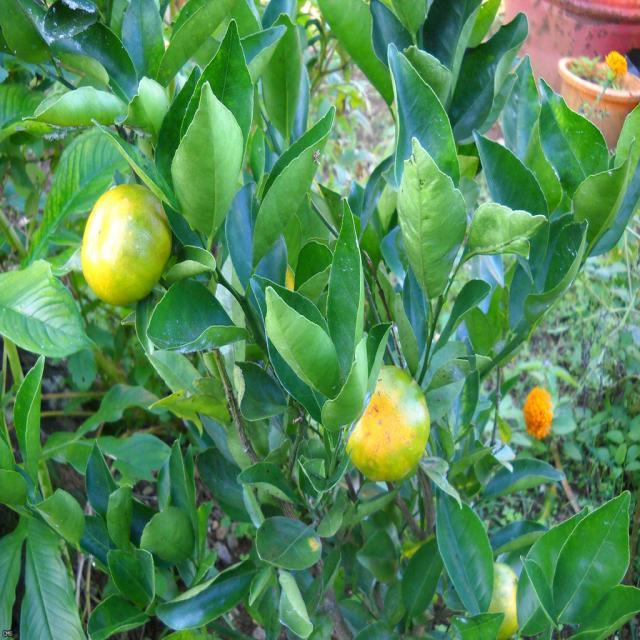Orange: (81, 186, 176, 296), (346, 368, 434, 476)
